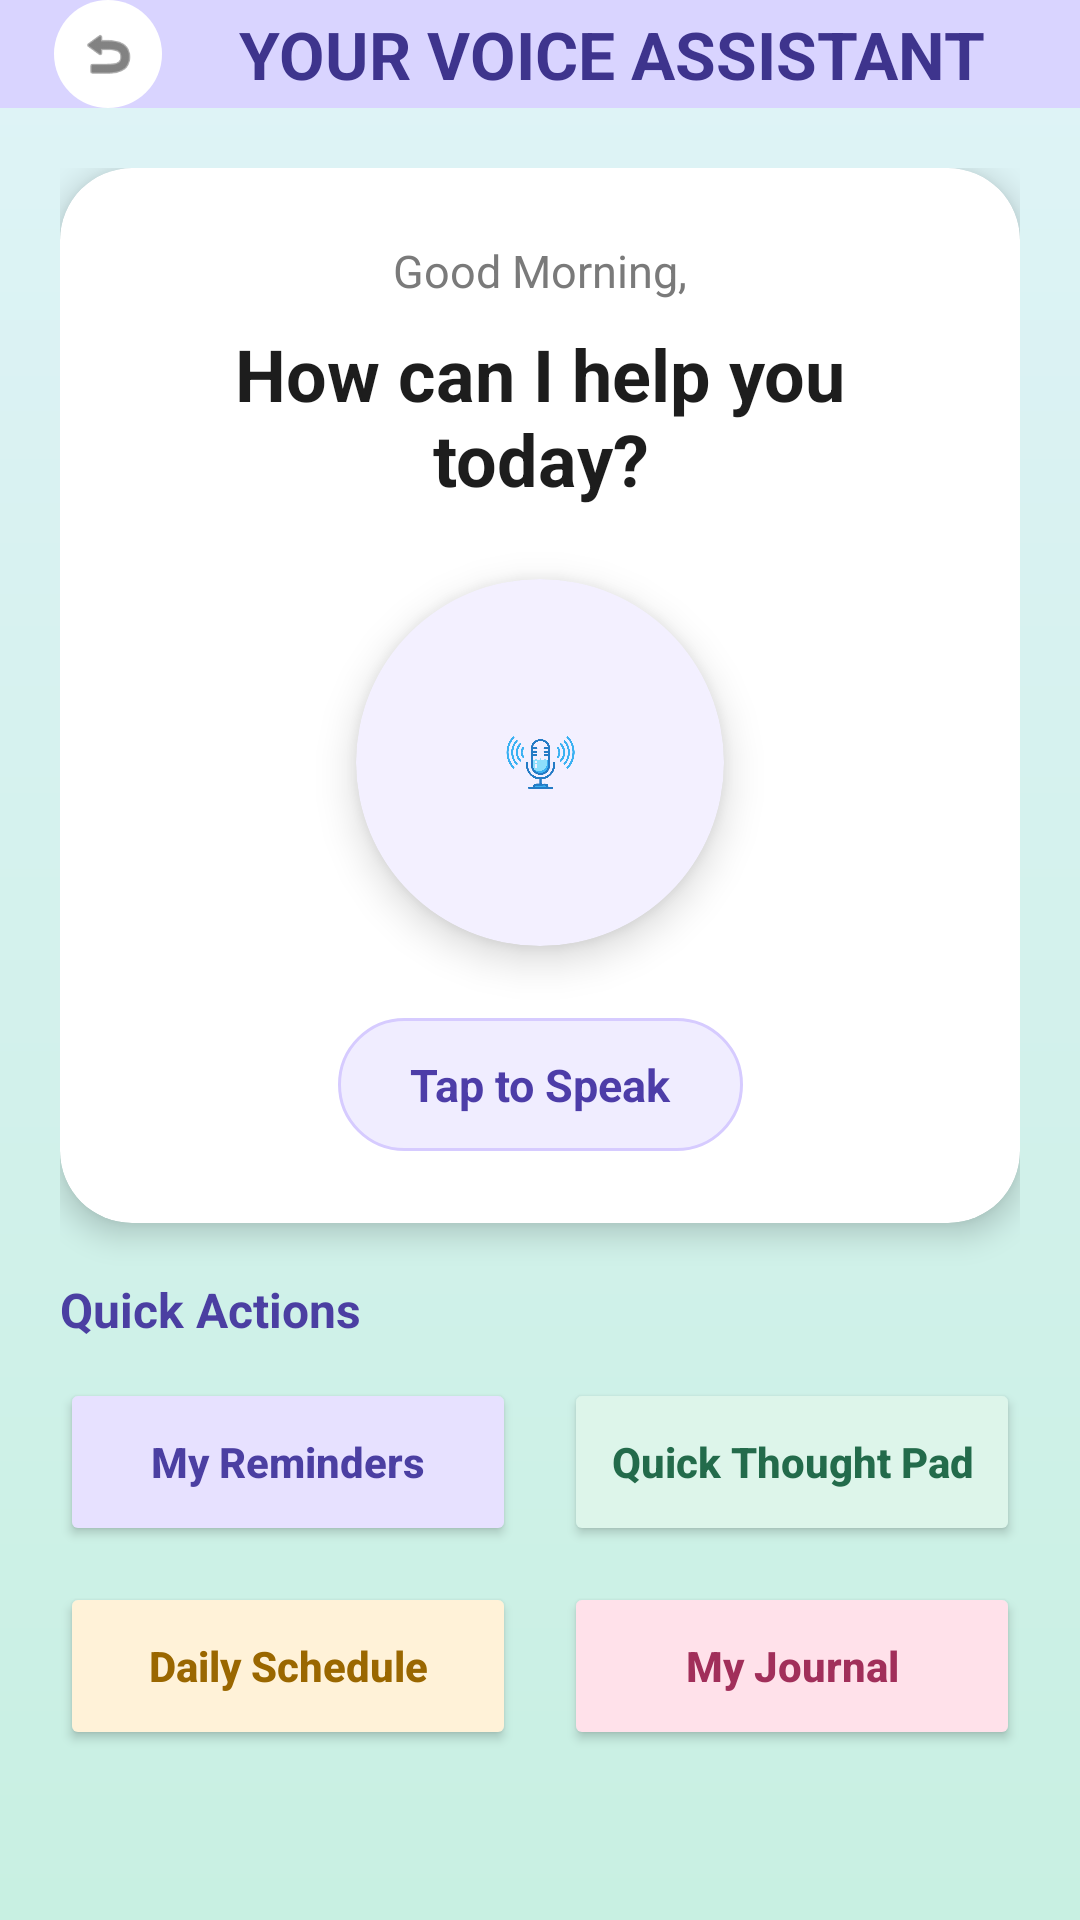

Icon bounding boxes for this 1080px×1920px phone screenshot, format (x1, y1, x2, y2):
Back: (54, 0, 162, 108)
